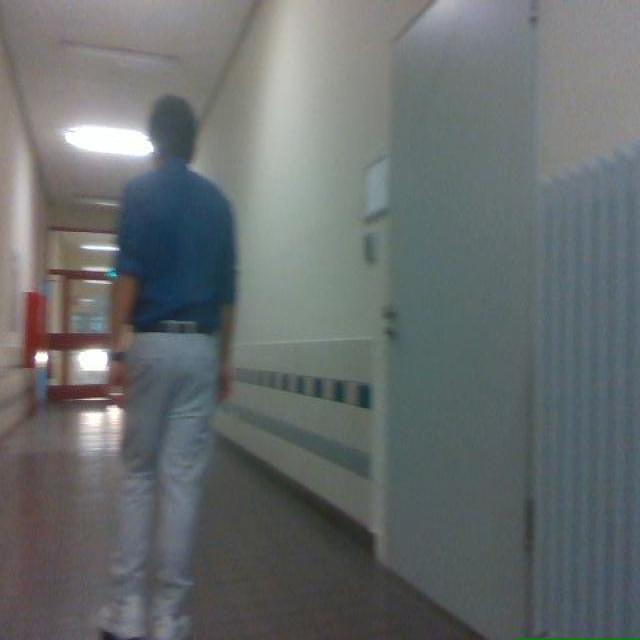humans: (99, 95, 236, 639)
